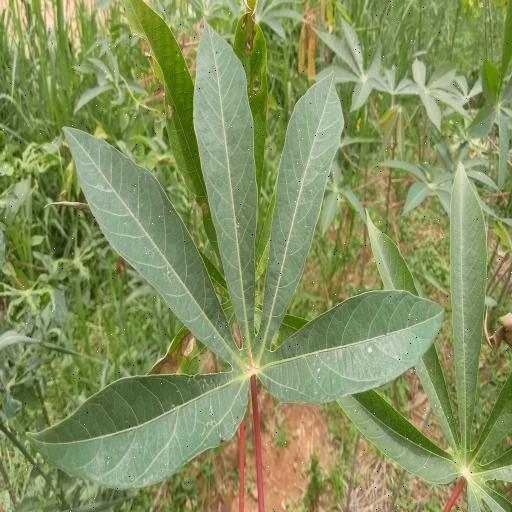Cassava_Healthy: (40, 11, 448, 493)
